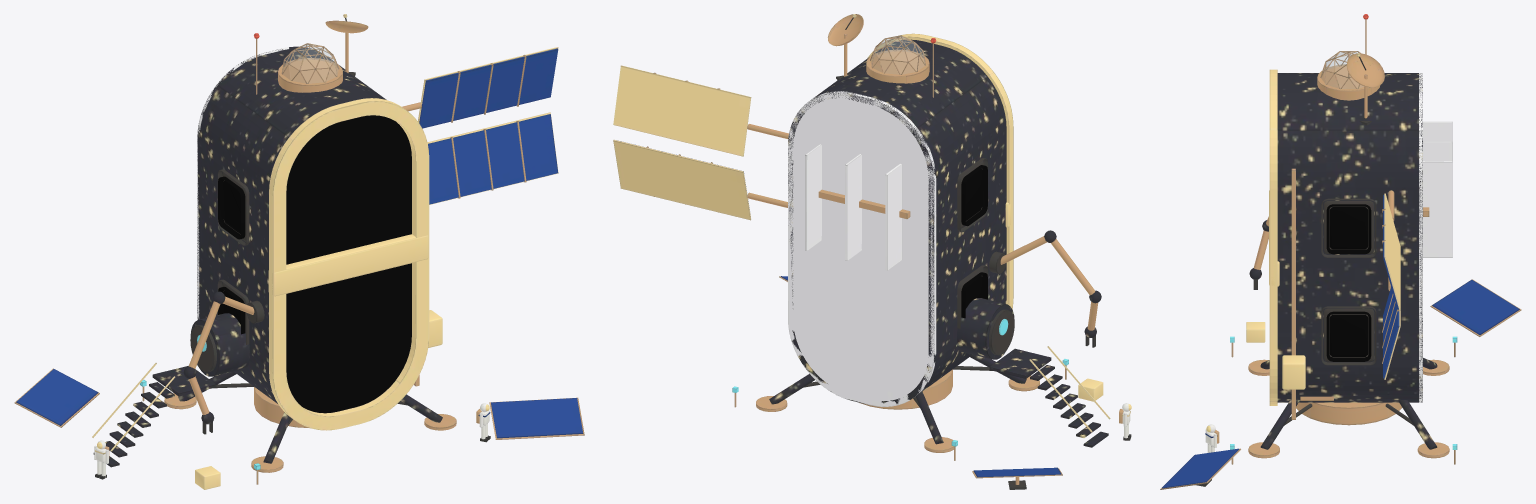
The model's file is design_3.glb.
The picture shows the model from 3 angles, left to right: view 1: azimuth 30°, elevation 25°; view 2: azimuth 150°, elevation 25°; view 3: azimuth 270°, elevation 25°; orthographic projection. The views are drawn at different scales.
Parts seen in each view (by area): view 1: 3_RICH_BAKED; view 2: 3_RICH_BAKED; view 3: 3_RICH_BAKED.
Boxes of the visible parts, x1=… form: 3_RICH_BAKED: x1=14, y1=14, x2=584, y2=489; 3_RICH_BAKED: x1=613, y1=14, x2=1131, y2=489; 3_RICH_BAKED: x1=1160, y1=14, x2=1521, y2=489.
Size of the model in its own units: 26.53 by 19.62 by 17.07.
Materials: 2 (1 with a texture image).
